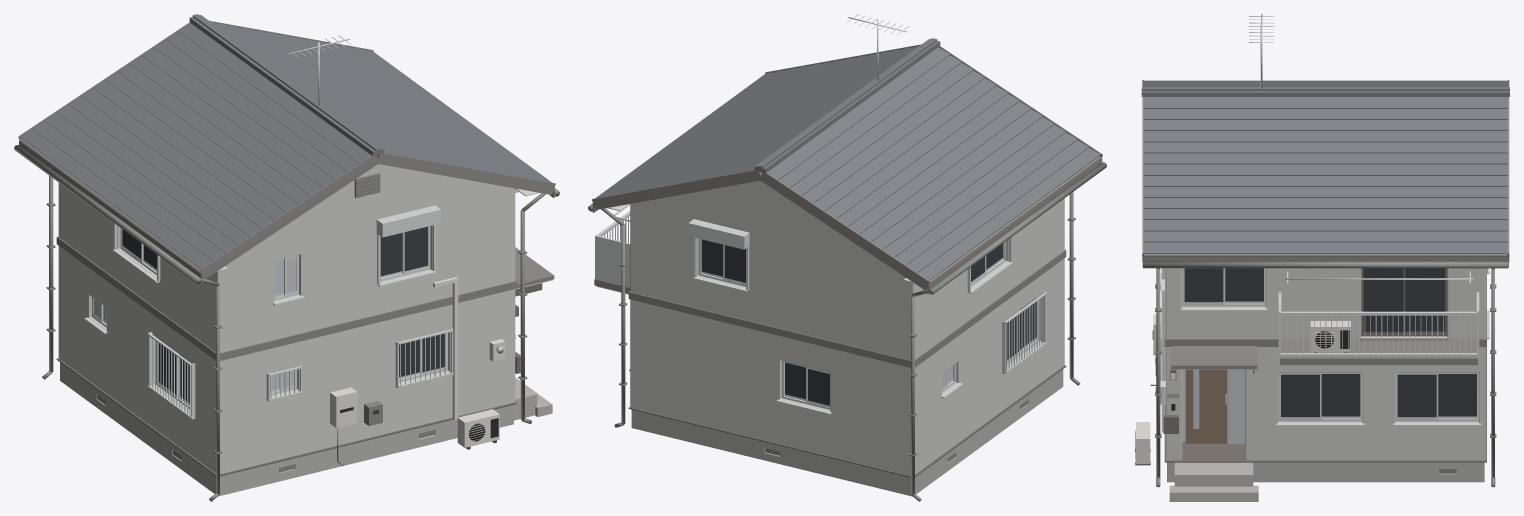
Rendered from jp_house_b.glb.
The picture shows the model from 3 angles, left to right: view 1: azimuth 30°, elevation 25°; view 2: azimuth 150°, elevation 25°; view 3: azimuth 270°, elevation 25°; orthographic projection. The views are drawn at different scales.
Parts seen in each view (by area): view 1: jp_house_b; view 2: jp_house_b; view 3: jp_house_b.
Part boxes in pixels (box(x1,y1,x2,y2)): jp_house_b: box(14, 14, 559, 501); jp_house_b: box(588, 14, 1106, 501); jp_house_b: box(1135, 14, 1509, 501).
Size of the model in its own units: 8.5 by 8.37 by 7.39.
